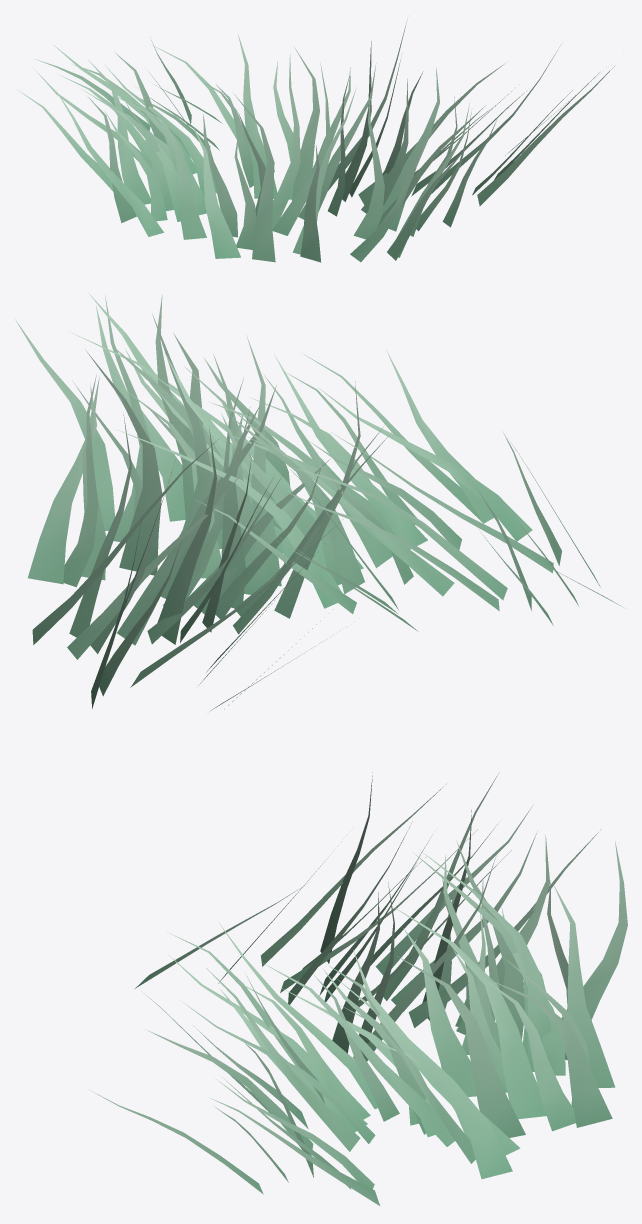
Rendered from mesh-plant-017-cloud-tuft_LOD1.glb.
3 renders of one model, top to bottom at view 1: azimuth 30°, elevation 25°; view 2: azimuth 150°, elevation 25°; view 3: azimuth 270°, elevation 25°, orthographic. The views are drawn at different scales.
Visible parts, largest first — view 1: geometry_0; view 2: geometry_0; view 3: geometry_0.
Boxes of the visible parts, left/top/right/bottom form: geometry_0: left=18, top=20, right=615, bottom=262; geometry_0: left=15, top=292, right=623, bottom=710; geometry_0: left=90, top=772, right=627, bottom=1205.
Bounding box in the file's own units: 1.46 × 0.384 × 1.12.
